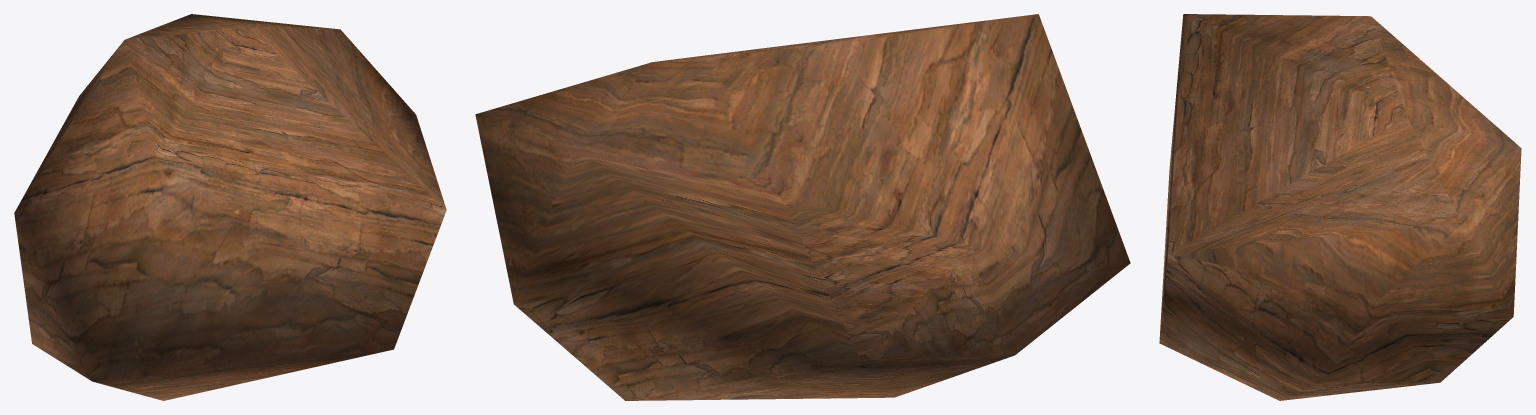
File: rock_tatt_jundland_boulder_a1_l3.fbx
The picture shows the model from 3 angles, left to right: view 1: azimuth 30°, elevation 25°; view 2: azimuth 150°, elevation 25°; view 3: azimuth 270°, elevation 25°; orthographic projection. The views are drawn at different scales.
Visible parts, largest first — view 1: mesh_node; view 2: mesh_node; view 3: mesh_node.
Boxes of the visible parts, box(x1,y1,x2,y2) form: mesh_node: box(14, 14, 446, 400); mesh_node: box(475, 14, 1130, 400); mesh_node: box(1159, 14, 1521, 400).
Size of the model in its own units: 3.31 by 2.4 by 2.51.
